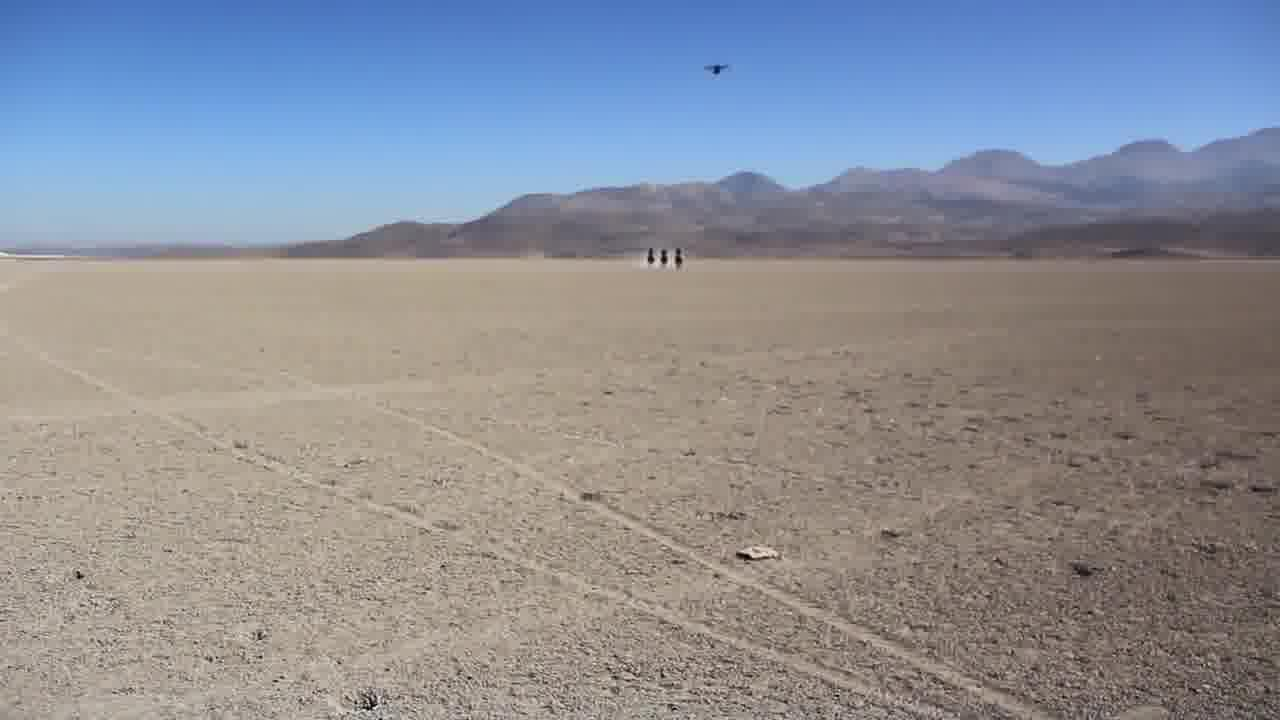drone: (697, 58, 733, 86)
